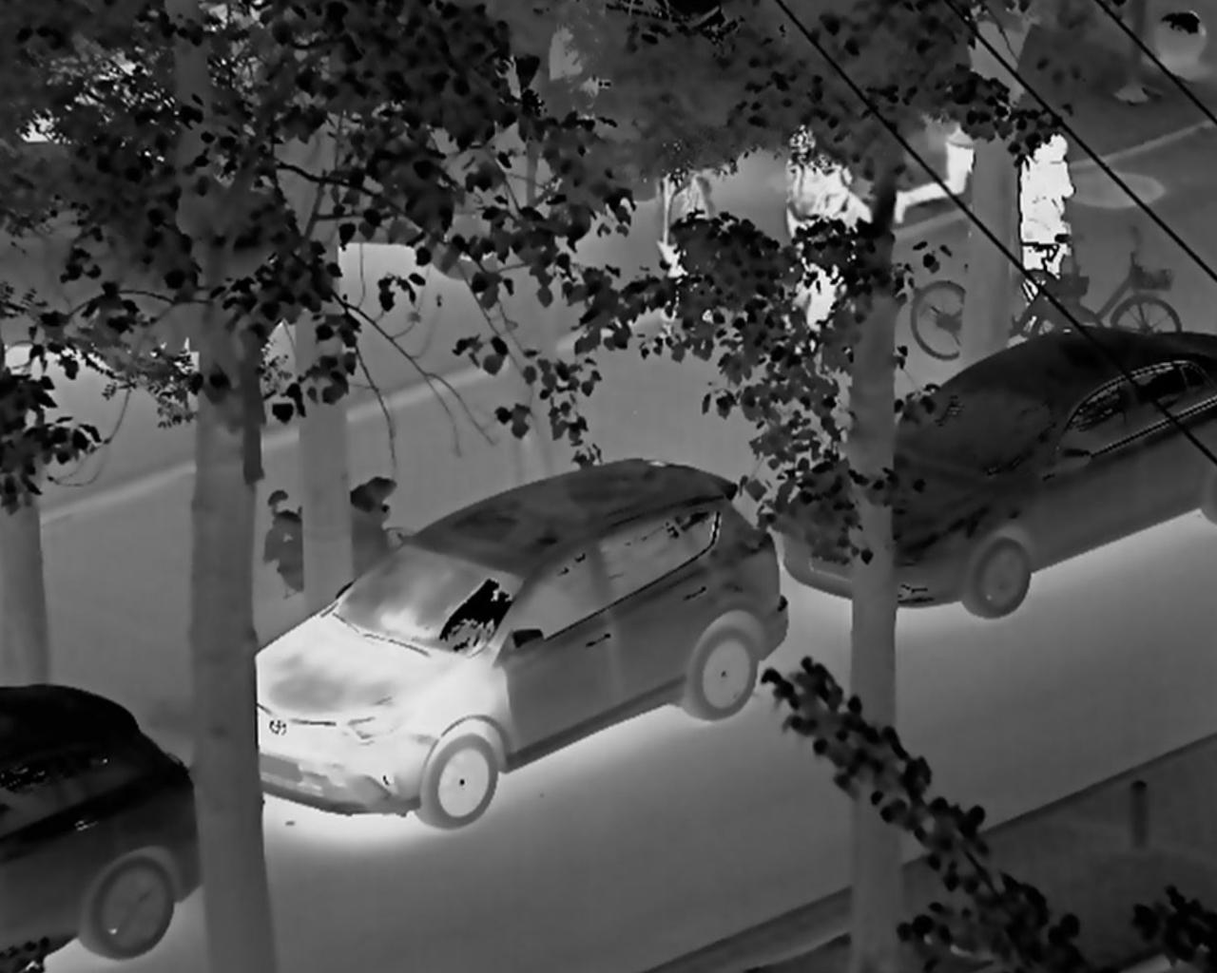person: (778, 127, 857, 360), (661, 156, 727, 351), (1020, 127, 1084, 313)
